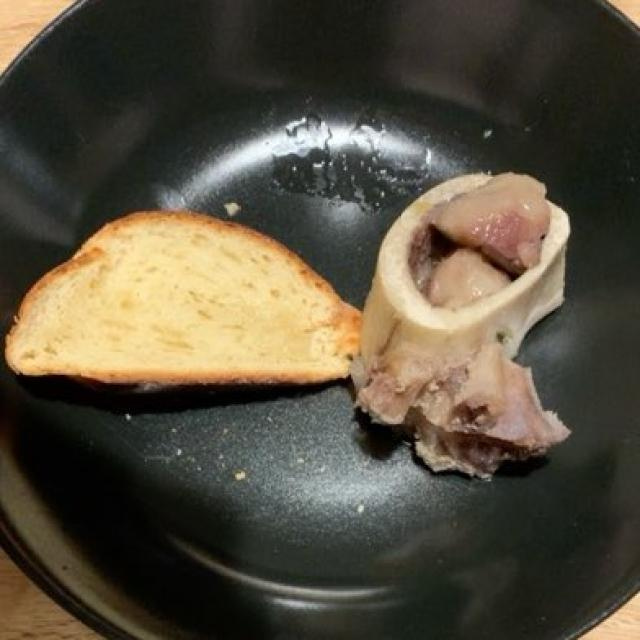bread: (7, 209, 377, 400)
